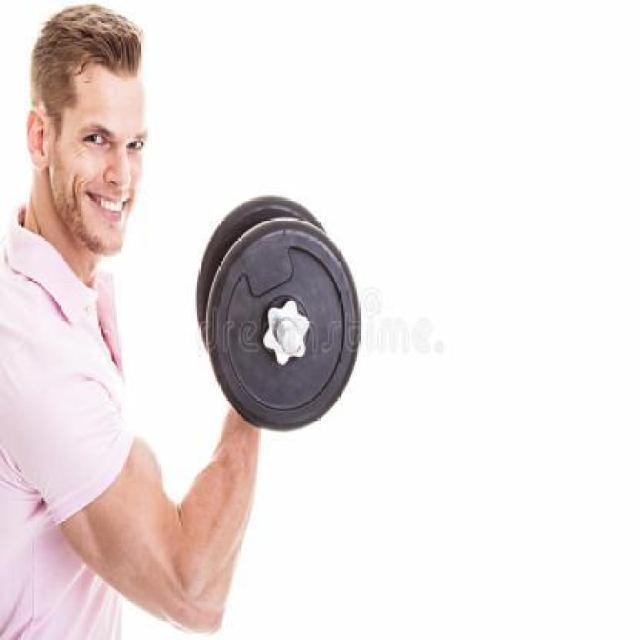barbell: (205, 216, 364, 435)
